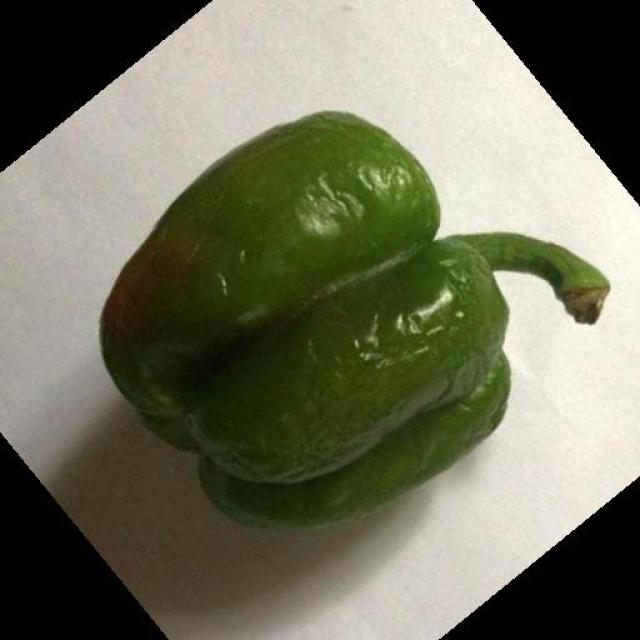Stale_Capsicum: (139, 94, 522, 498)
